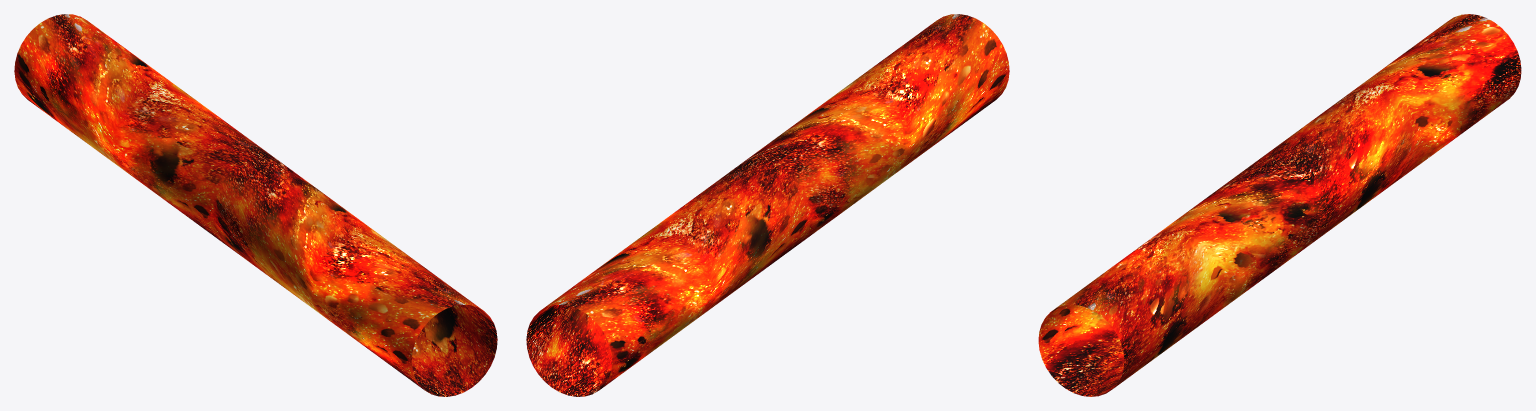
File: gyoza_effct.fbx
The picture shows the model from 3 angles, left to right: view 1: azimuth 30°, elevation 25°; view 2: azimuth 150°, elevation 25°; view 3: azimuth 330°, elevation 25°; orthographic projection.
Visible parts, largest first — view 1: pCylinder1; view 2: pCylinder1; view 3: pCylinder1.
Boxes of the visible parts, box(x1,y1,x2,y2) form: pCylinder1: box(14, 14, 497, 396); pCylinder1: box(526, 14, 1009, 396); pCylinder1: box(1038, 14, 1521, 396).
Bounding box in the file's own units: 49.94 × 49.94 × 400.
